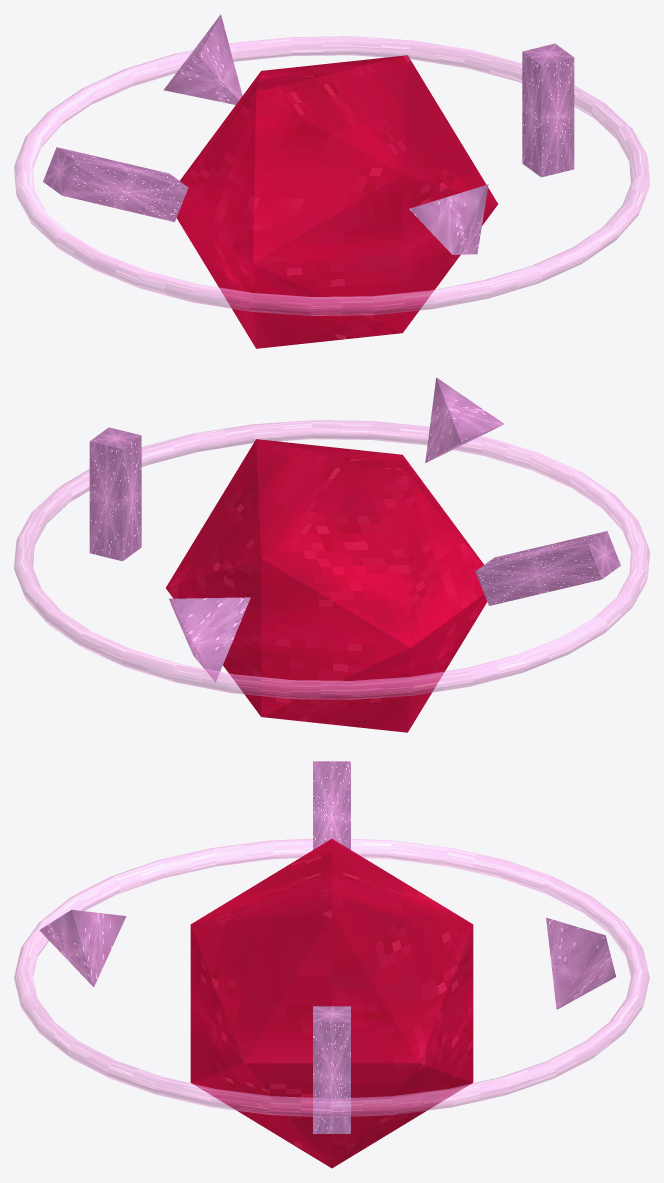
The model's file is anomaly-cluster-rose.high.glb.
3 renders of one model, top to bottom at view 1: azimuth 30°, elevation 25°; view 2: azimuth 150°, elevation 25°; view 3: azimuth 270°, elevation 25°, orthographic.
Visible parts, largest first — view 1: shell, ring, orbital-0; view 2: shell, ring, orbital-0; view 3: shell, ring, orbital-0.
Boxes of the visible parts, x1,y1,x2,y2 form: shell: (176,55,497,348); ring: (14,36,649,315); orbital-0: (43,14,574,254); shell: (166,439,487,732); ring: (14,420,649,699); orbital-0: (89,377,620,681); shell: (190,839,473,1168); ring: (14,838,649,1117); orbital-0: (39,761,616,1133).
Bounding box in the file's own units: 2.7 × 1.19 × 2.68.
3 materials, 3 textured.
